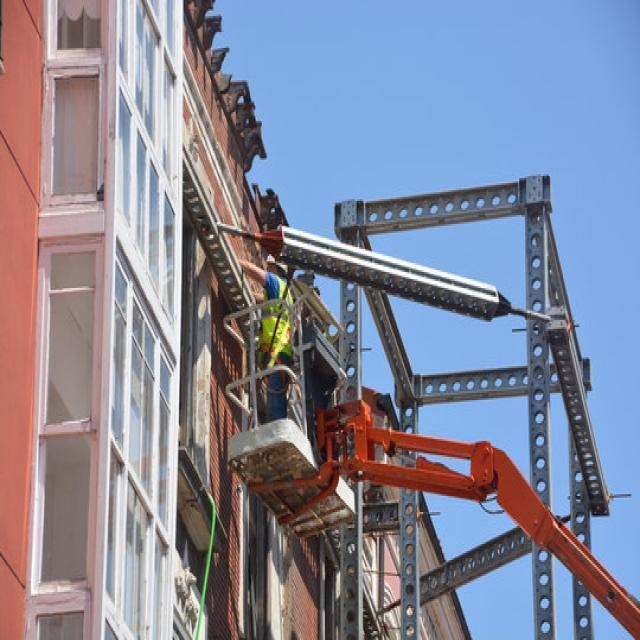Arnes_seguridad: (259, 329, 292, 394)
